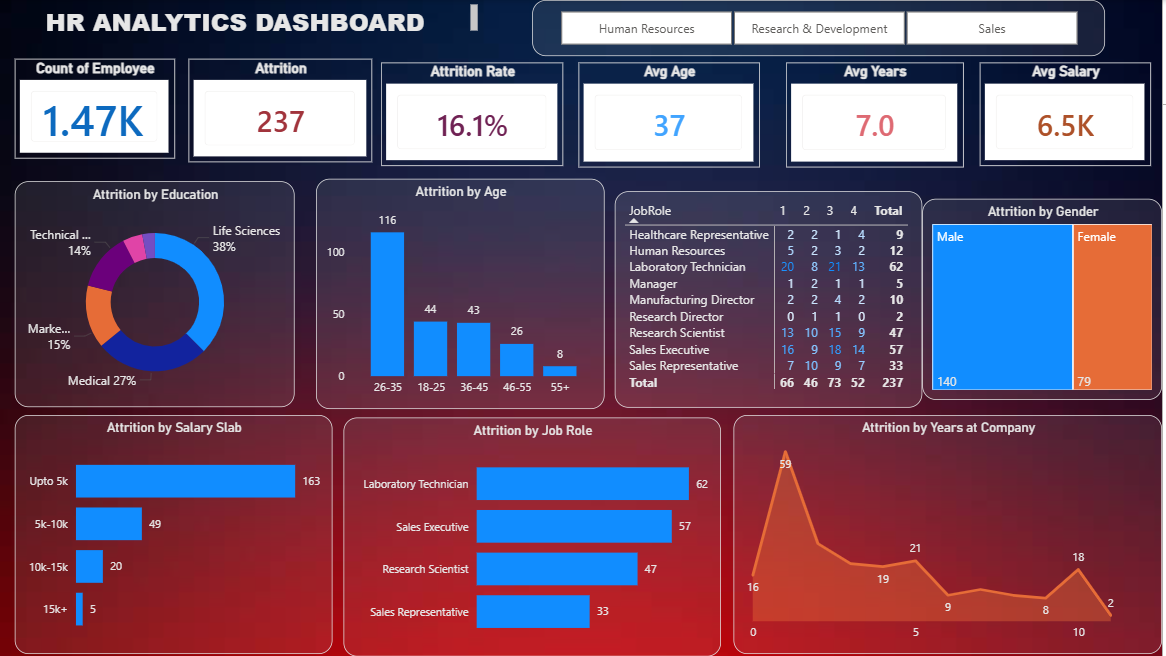

The dashboard page shown, as its layout file describes it:
{"tool":"powerbi","page":{"name":"Page 1","canvas":[1280,720],"ordinal":0},"visuals":[{"type":"cardVisual","title":"Count of Employee","fields":{"Data":["CountNonNull(HR_Analytics.EmpID)"]},"box":[9.6,48,175.6,109.8],"z":0},{"type":"cardVisual","title":"Avg Salary","fields":{"Data":["Avg(HR_Analytics.MonthlyIncome)"]},"box":[1073.1,45.3,188,113.9],"z":1},{"type":"cardVisual","title":"Attrition","fields":{"Data":["Sum(HR_Analytics.AttritionCount)"]},"box":[194.9,45.3,201.7,113.9],"z":2},{"type":"cardVisual","title":"Attrition Rate","fields":{"Data":["HR_Analytics.AttritionRate"]},"box":[413,48,200.3,113.9],"z":3},{"type":"cardVisual","title":"Avg Age","fields":{"Data":["Avg(HR_Analytics.Age)"]},"box":[639.5,43.9,199,115.3],"z":4},{"type":"cardVisual","title":"Avg Years","fields":{"Data":["Avg(HR_Analytics.YearsAtCompany)"]},"box":[853.5,42.5,194.9,115.3],"z":5},{"type":"donutChart","title":"Attrition by Education","fields":{"Category":["HR_Analytics.EducationField"],"Y":["Sum(HR_Analytics.AttritionCount)"]},"box":[31.6,188,307.4,248.4],"z":6},{"type":"columnChart","title":"Attrition by Age","fields":{"Category":["HR_Analytics.AgeGroup"],"Y":["Sum(HR_Analytics.AttritionCount)"]},"box":[425.4,188,328,262.1],"z":7},{"type":"pivotTable","fields":{"Rows":["HR_Analytics.JobRole"],"Columns":["HR_Analytics.JobSatisfaction"],"Values":["Sum(HR_Analytics.AttritionCount)"]},"box":[864.5,189.4,369.1,247],"z":8},{"type":"barChart","title":"Attrition by Age","fields":{"Y":["Sum(HR_Analytics.AttritionCount)"],"Category":["HR_Analytics.SalarySlab"]},"box":[20.6,455.6,328,262.1],"z":9},{"type":"barChart","title":"Attrition by Age","fields":{"Y":["Sum(HR_Analytics.AttritionCount)"],"Category":["HR_Analytics.JobRole"]},"box":[425.4,455.6,328,262.1],"z":10},{"type":"areaChart","title":"Attrition by Age","fields":{"Category":["HR_Analytics.YearsAtCompany"],"Y":["Sum(HR_Analytics.AttritionCount)"]},"box":[838.4,450.1,407.5,267.6],"z":11}]}

Visuals, with their boxes in screenshot pixels (x1, y1, x2, y2), scaled from the page's 1280x720 canvas onto the 1166x656 screenshot:
"Count of Employee" cardVisual: BBox(9, 44, 169, 144)
"Avg Salary" cardVisual: BBox(978, 41, 1149, 145)
"Attrition" cardVisual: BBox(178, 41, 361, 145)
"Attrition Rate" cardVisual: BBox(376, 44, 559, 148)
"Avg Age" cardVisual: BBox(583, 40, 764, 145)
"Avg Years" cardVisual: BBox(777, 39, 955, 144)
"Attrition by Education" donutChart: BBox(29, 171, 309, 398)
"Attrition by Age" columnChart: BBox(388, 171, 686, 410)
pivotTable - HR_Analytics.JobRole x HR_Analytics.JobSatisfaction: BBox(788, 173, 1124, 398)
"Attrition by Age" barChart: BBox(19, 415, 318, 654)
"Attrition by Age" barChart: BBox(388, 415, 686, 654)
"Attrition by Age" areaChart: BBox(764, 410, 1135, 654)
